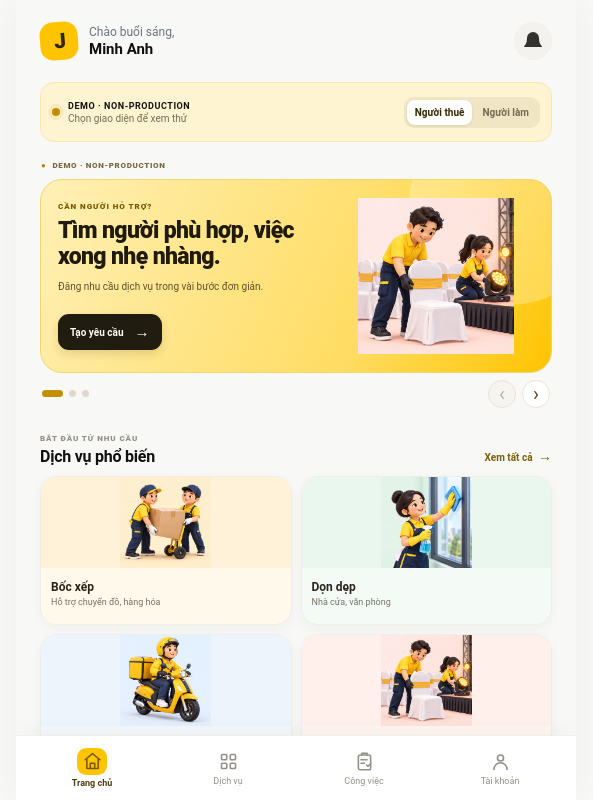
Test: AppShell role context › keeps role navigation isolated and returns to home on context change
The image size is (593, 800).
Click the button "Công việc" at [364, 768], box [297,744,431,792]
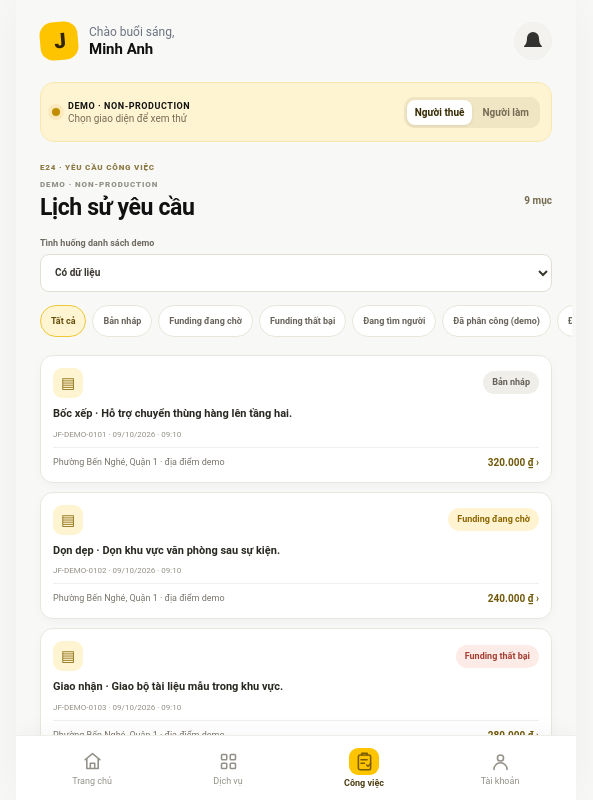
Expected: the heading "Lịch sử yêu cầu" is shown, [40,194,194,222]
Expected: the text "JF-DEMO-0101 · 09/10/2026 · 09:10" is shown, [53,430,181,438]
Click the button "Người làm" at [506, 112], box [474,100,537,124]
(page scrolled)
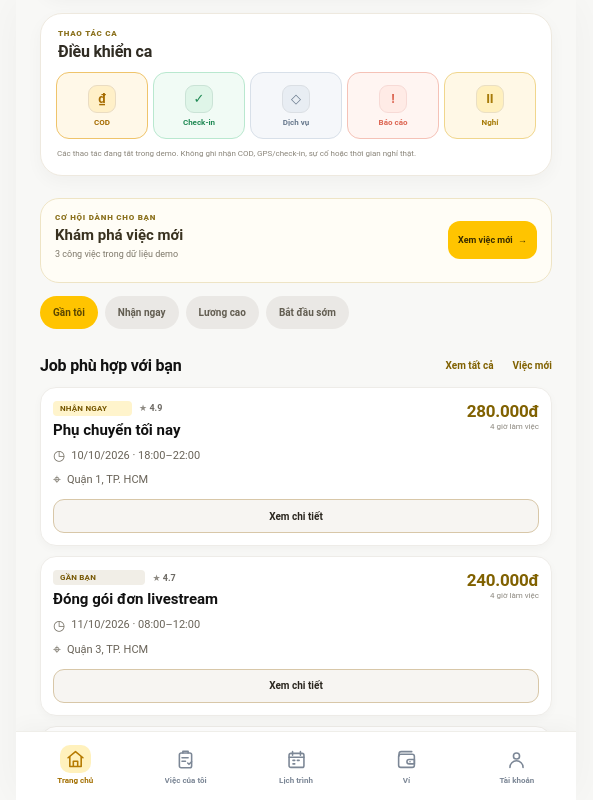
Expected: the heading "Job phù hợp với bạn" is shown, [40,356,181,375]
